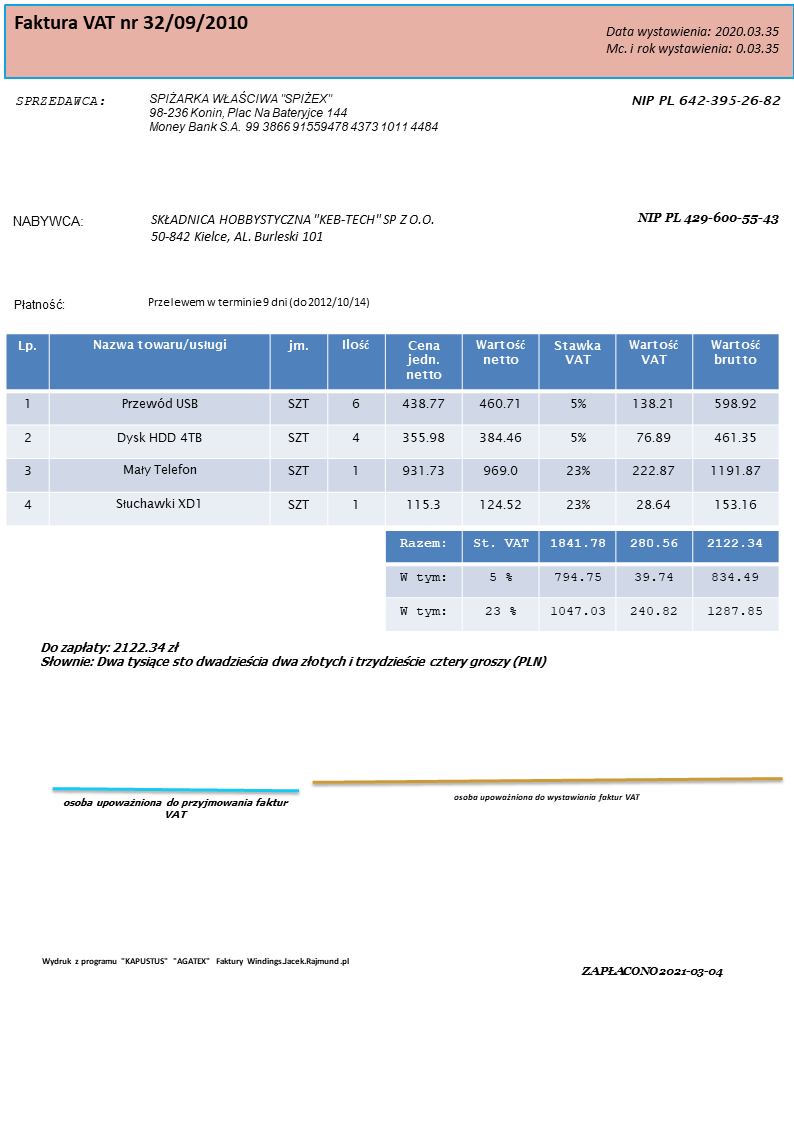Table: (4, 331, 781, 527), (383, 528, 780, 632)
TextBox: (37, 639, 549, 673), (145, 88, 440, 135), (147, 209, 438, 244), (603, 21, 781, 59), (60, 793, 290, 821), (12, 11, 248, 34), (38, 954, 351, 969), (145, 294, 371, 310), (451, 789, 640, 805), (635, 209, 782, 229), (628, 91, 782, 110), (578, 963, 723, 981), (13, 91, 106, 110), (8, 210, 86, 232), (11, 295, 65, 312)
